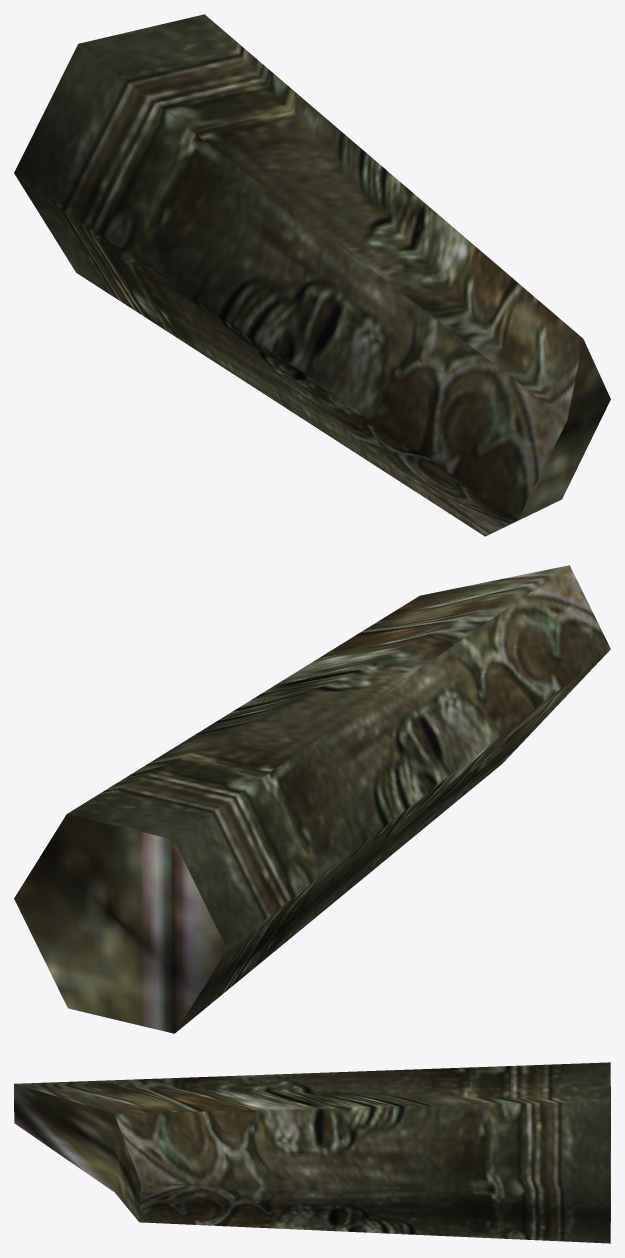
Rendered from column-destr_03.obj.
The picture shows the model from 3 angles, top to bottom: view 1: azimuth 30°, elevation 25°; view 2: azimuth 150°, elevation 25°; view 3: azimuth 270°, elevation 25°; orthographic projection. The views are drawn at different scales.
Visible parts, largest first — view 1: (null); view 2: (null); view 3: (null).
Part boxes in pixels (x1,y1,x2,y2): (null): (14,14,610,536); (null): (14,565,610,1033); (null): (14,1062,610,1243).
Bounding box in the file's own units: 0.5159 × 0.4488 × 1.69.
